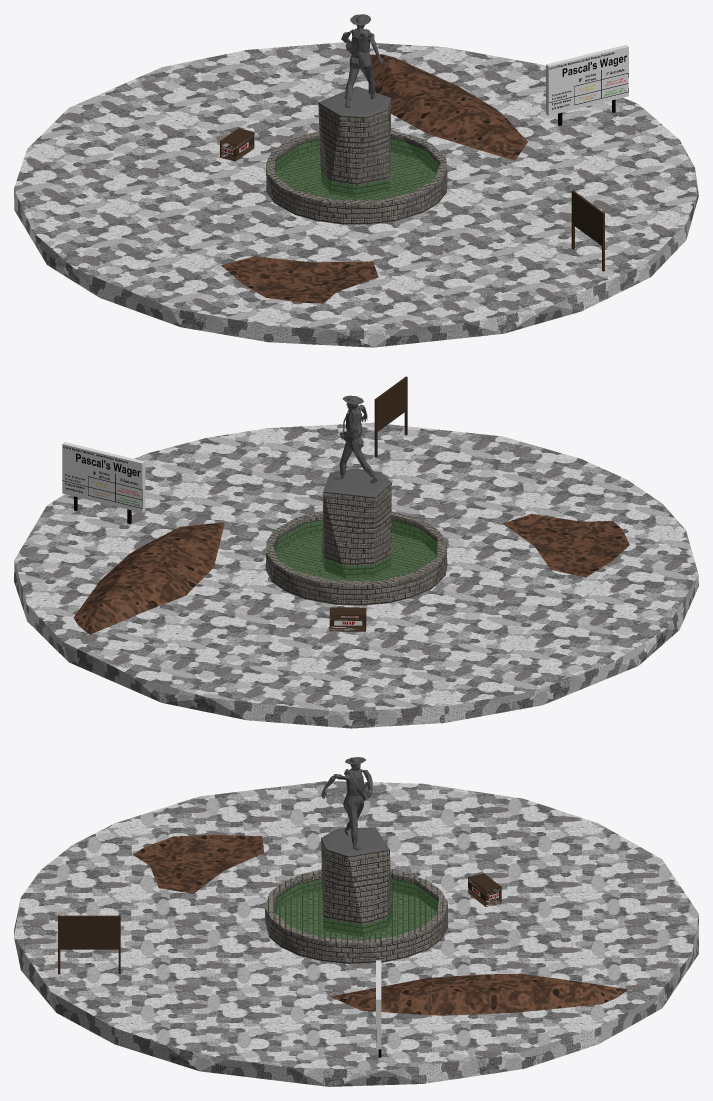
Rendered from Gourdtown City Square.glb.
3 renders of one model, top to bottom at view 1: azimuth 30°, elevation 25°; view 2: azimuth 150°, elevation 25°; view 3: azimuth 270°, elevation 25°, orthographic.
Visible parts, largest first — view 1: Ground, Fountain, Water, PW Sign, Statue, QuestBoard, Box, Text; view 2: Ground, Fountain, Water, PW Sign, Statue, QuestBoard, Box, Text; view 3: Ground, Fountain, Water, QuestBoard, Statue, Box, PW Sign.
Part boxes in pixels (<box>): Ground: <box>14,42,698,347</box>; Fountain: <box>266,86,447,224</box>; Water: <box>275,139,439,200</box>; PW Sign: <box>546,45,628,125</box>; Statue: <box>341,14,383,108</box>; QuestBoard: <box>571,190,604,271</box>; Box: <box>220,128,254,161</box>; Text: <box>549,52,626,109</box>; Ground: <box>14,422,698,728</box>; Fountain: <box>265,468,447,605</box>; Water: <box>274,520,437,580</box>; PW Sign: <box>62,442,145,524</box>; Statue: <box>333,395,377,483</box>; QuestBoard: <box>374,376,407,457</box>; Box: <box>329,607,366,631</box>; Text: <box>63,446,140,505</box>; Ground: <box>14,781,698,1086</box>; Fountain: <box>265,827,447,964</box>; Water: <box>274,878,438,940</box>; QuestBoard: <box>58,915,120,974</box>; Statue: <box>320,757,372,850</box>; Box: <box>468,873,501,906</box>; PW Sign: <box>376,960,381,1057</box>.
Size of what is drawn, in the model's own units: 22.88 by 6.86 by 22.88.
14 materials, 3 textured.
